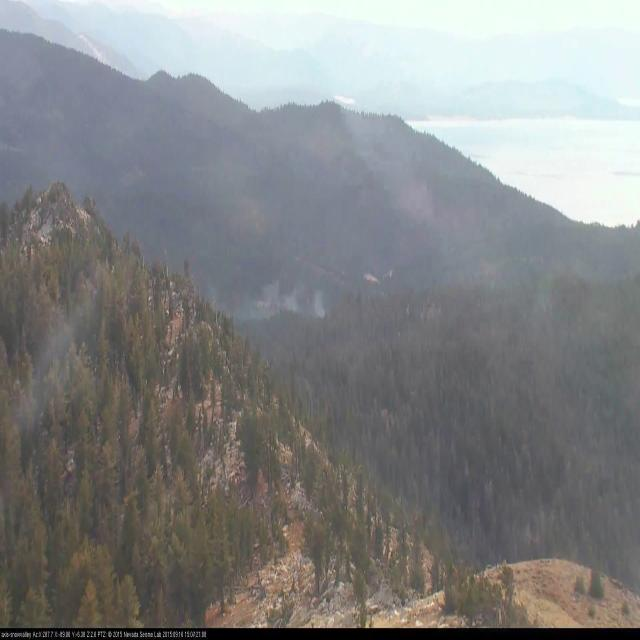smoke: (227, 263, 332, 332)
